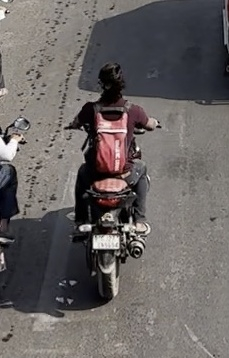BikeWithRider: (56, 58, 164, 304)
NoHelmet: (90, 58, 134, 99)
